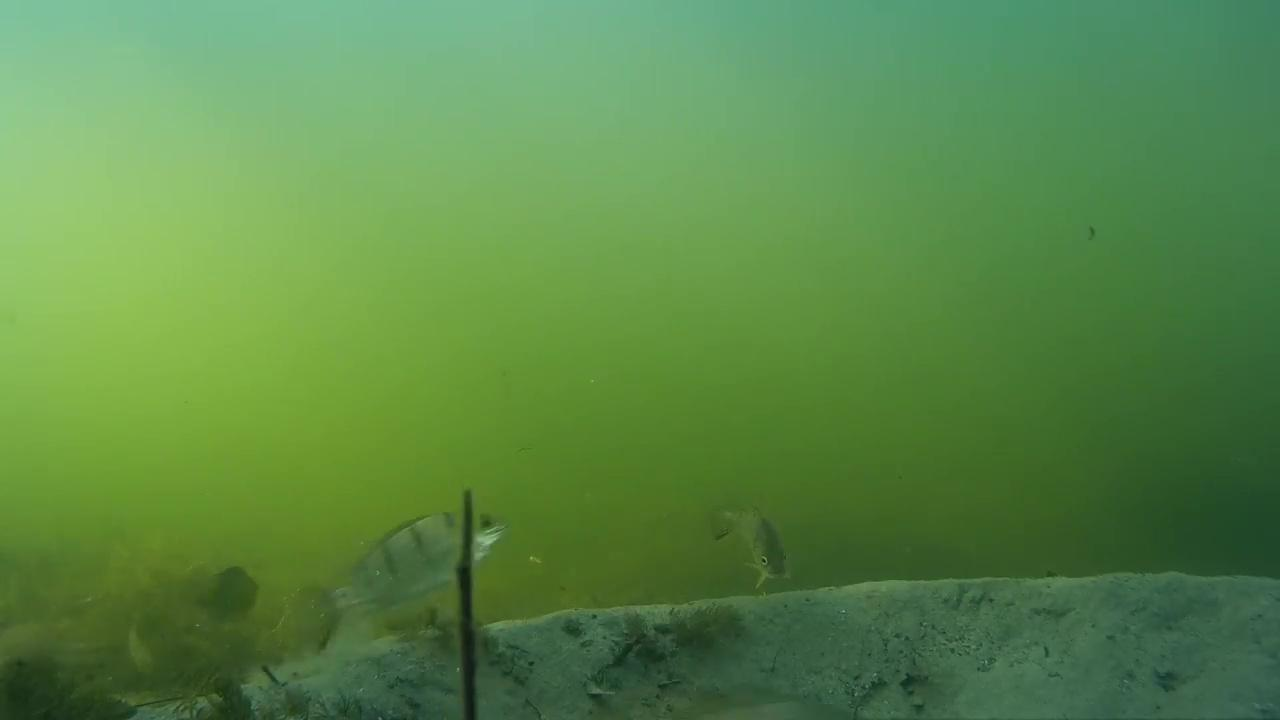Tilapia: (324, 506, 511, 620), (710, 494, 797, 590)
